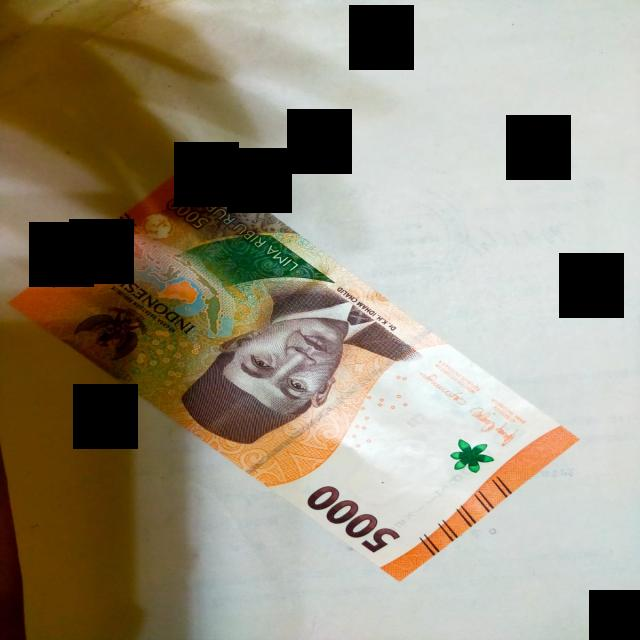lima ribu rupiah: (10, 161, 578, 580)
